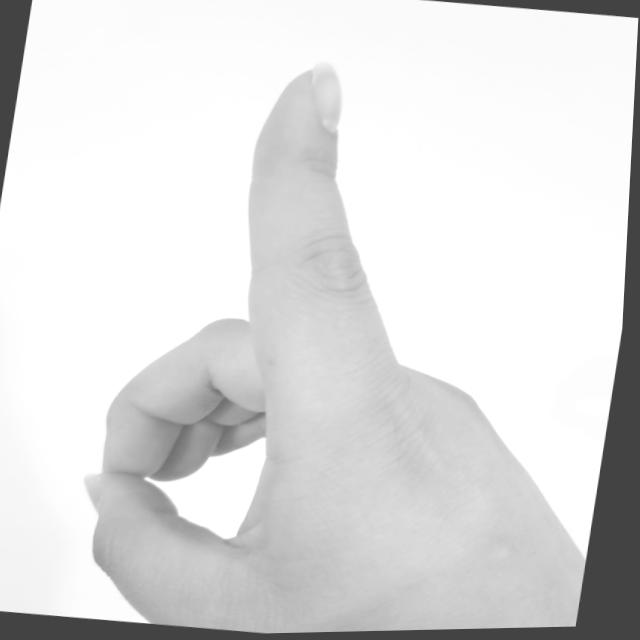D: (56, 32, 637, 638)
